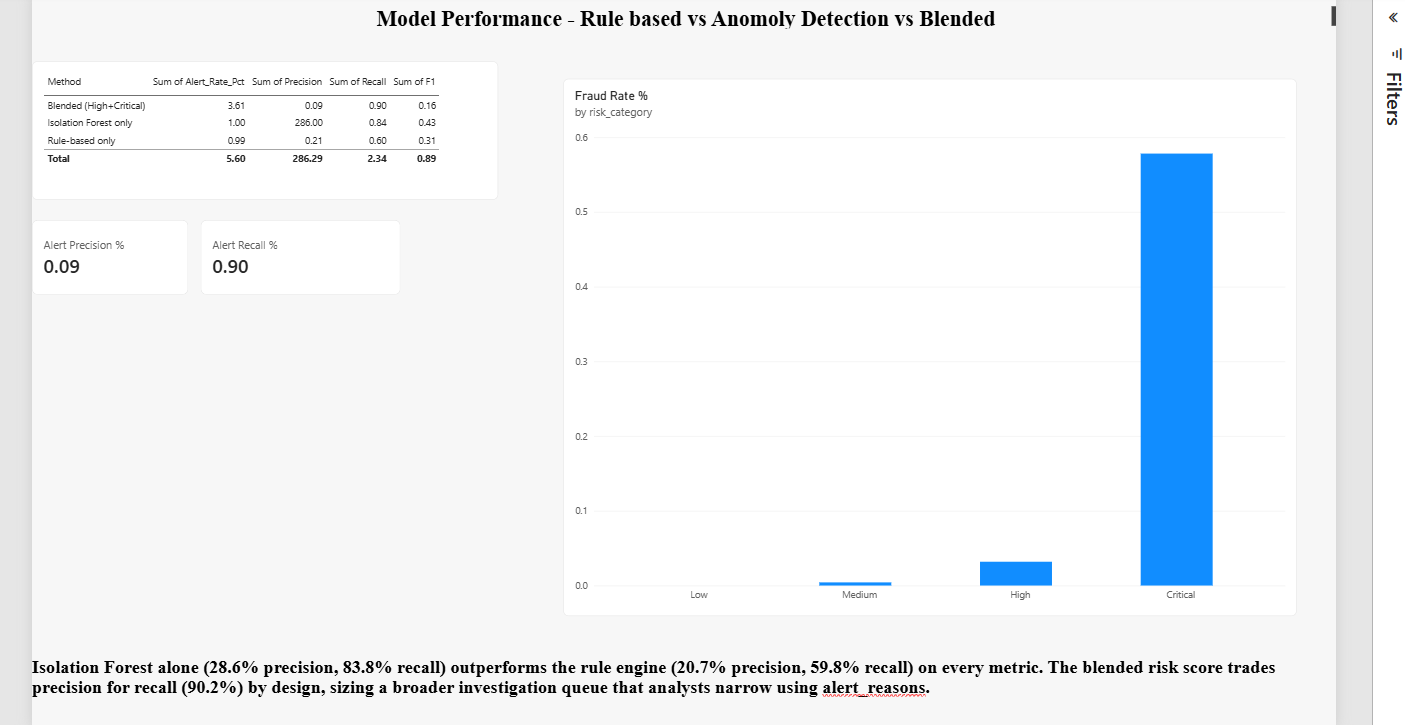

Layout of this report page (visuals, bound fields, positions):
{"tool":"powerbi","page":{"name":"Model Performance","canvas":[1920,1080],"ordinal":3},"visuals":[{"type":"textbox","box":[10.3,16.5,1910.1,32.9],"z":0},{"type":"tableEx","fields":{"Values":["model_comparison.Method","Sum(model_comparison.Alert_Rate_Pct)","Sum(model_comparison.Precision)","Sum(model_comparison.Recall)","Sum(model_comparison.F1)"]},"box":[0,97.5,686.5,204.3],"z":1000},{"type":"cardVisual","fields":{"Data":["_Measures.Alert Precision %"]},"box":[0,331.3,230.1,110.4],"z":2000},{"type":"cardVisual","fields":{"Data":["_Measures.Alert Recall %"]},"box":[248.5,331.3,294.5,110.4],"z":3000},{"type":"clusteredColumnChart","fields":{"Category":["fact_transactions.risk_category"],"Y":["_Measures.Fraud Rate %"]},"box":[782.2,123.3,1080.4,791.4],"z":4000},{"type":"textbox","box":[0,973.6,1919.6,106.7],"z":4001}]}

Visuals, with their boxes on the page's 1920x1080 design canvas (x1, y1, x2, y2). These are canvas units, not pixel positions in the 1405x725 screenshot, which may show the page scaled, cropped or inside an application window:
textbox: (10,16,1920,49)
tableEx - model_comparison.Method x Sum(model_comparison.Alert_Rate_Pct): (0,98,686,302)
cardVisual - _Measures.Alert Precision %: (0,331,230,442)
cardVisual - _Measures.Alert Recall %: (248,331,543,442)
clusteredColumnChart - fact_transactions.risk_category x _Measures.Fraud Rate %: (782,123,1863,915)
textbox: (0,974,1920,1080)
